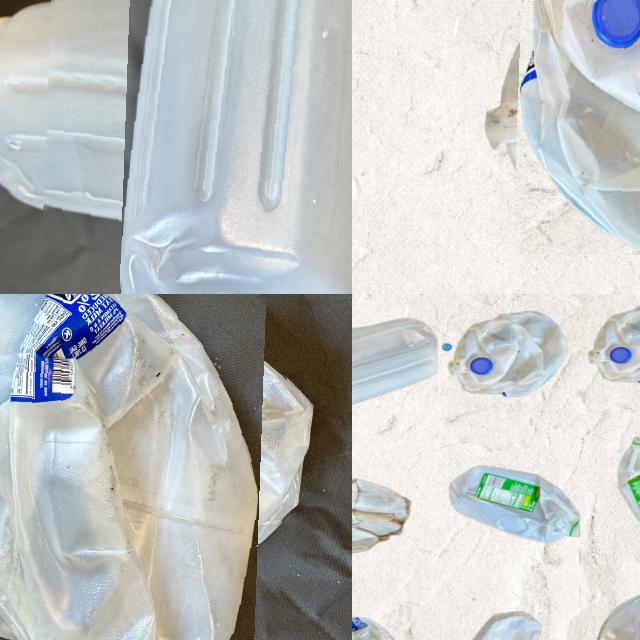milk-jug: (0, 294, 287, 640), (44, 0, 352, 294), (498, 0, 640, 240), (445, 454, 586, 544), (445, 304, 567, 402), (352, 314, 435, 412), (352, 475, 411, 558), (589, 299, 640, 389), (576, 582, 640, 640), (610, 433, 640, 529), (453, 608, 541, 640)
